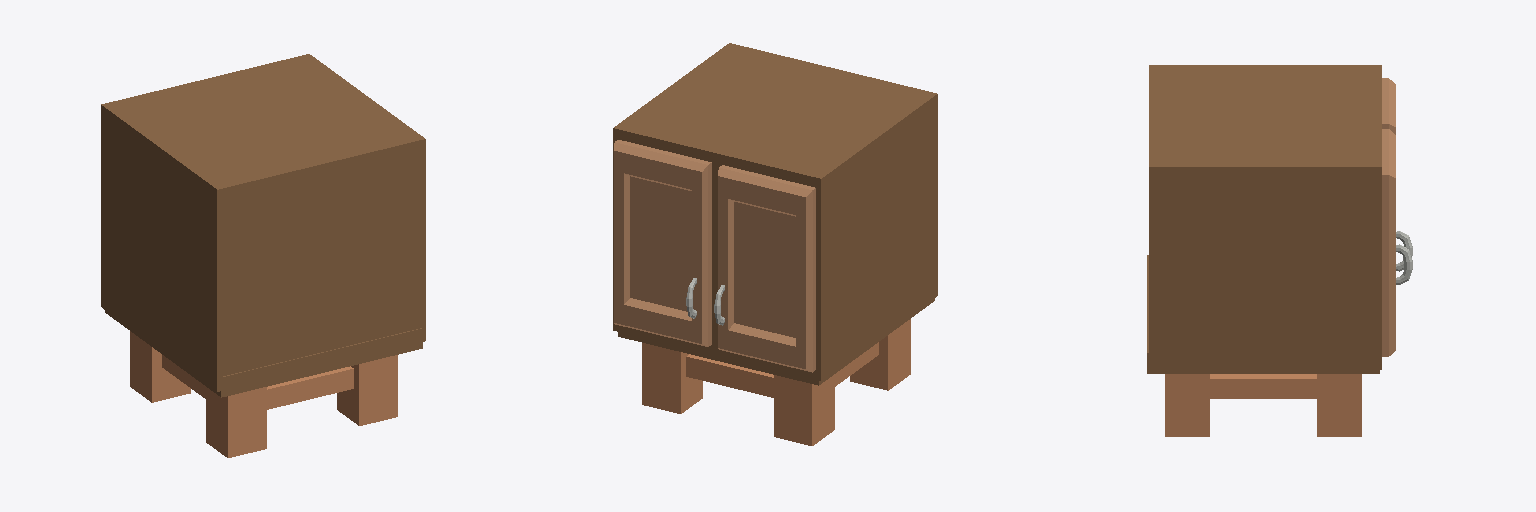
File: Bedside.obj
The picture shows the model from 3 angles: view 1: azimuth 30°, elevation 25°; view 2: azimuth 150°, elevation 25°; view 3: azimuth 270°, elevation 25°; orthographic projection.
Visible parts, largest first — view 1: mergedBlocks; view 2: mergedBlocks; view 3: mergedBlocks.
Part boxes in pixels (left/top/right/bottom): mergedBlocks: left=101, top=54, right=425, bottom=457; mergedBlocks: left=613, top=43, right=937, bottom=445; mergedBlocks: left=1147, top=65, right=1412, bottom=436.
Size of the model in its own units: 0.5386 by 0.69 by 0.5934.